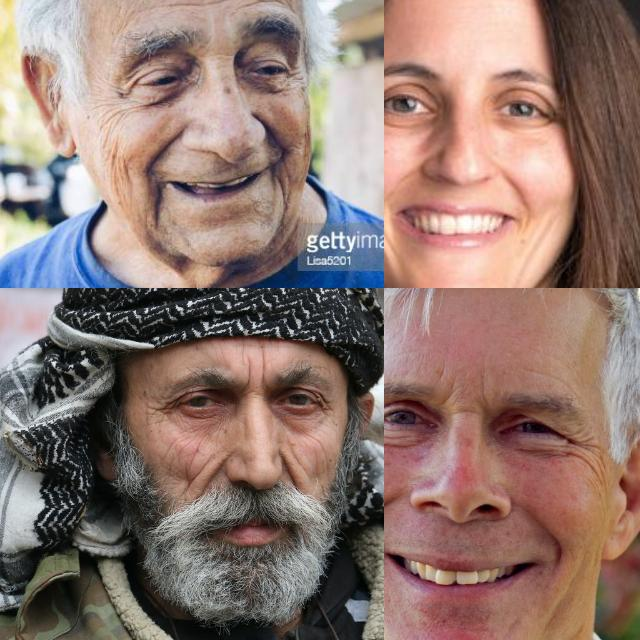crows_feet: (561, 428, 597, 460), (151, 395, 177, 421), (108, 80, 130, 108), (316, 396, 332, 420)
forehead: (171, 0, 204, 10), (209, 0, 256, 4)
frown_line: (434, 371, 461, 412), (476, 373, 494, 409), (240, 358, 256, 392), (256, 358, 270, 394)
gummy_smile: (532, 514, 572, 568), (148, 126, 184, 162), (494, 163, 528, 201), (196, 456, 228, 494), (390, 157, 422, 187), (384, 488, 401, 541), (278, 452, 300, 488), (272, 131, 290, 165)
masseter: (534, 208, 556, 268), (101, 136, 129, 182), (172, 461, 198, 495)
sad_smile: (146, 187, 166, 225), (274, 174, 292, 206)
